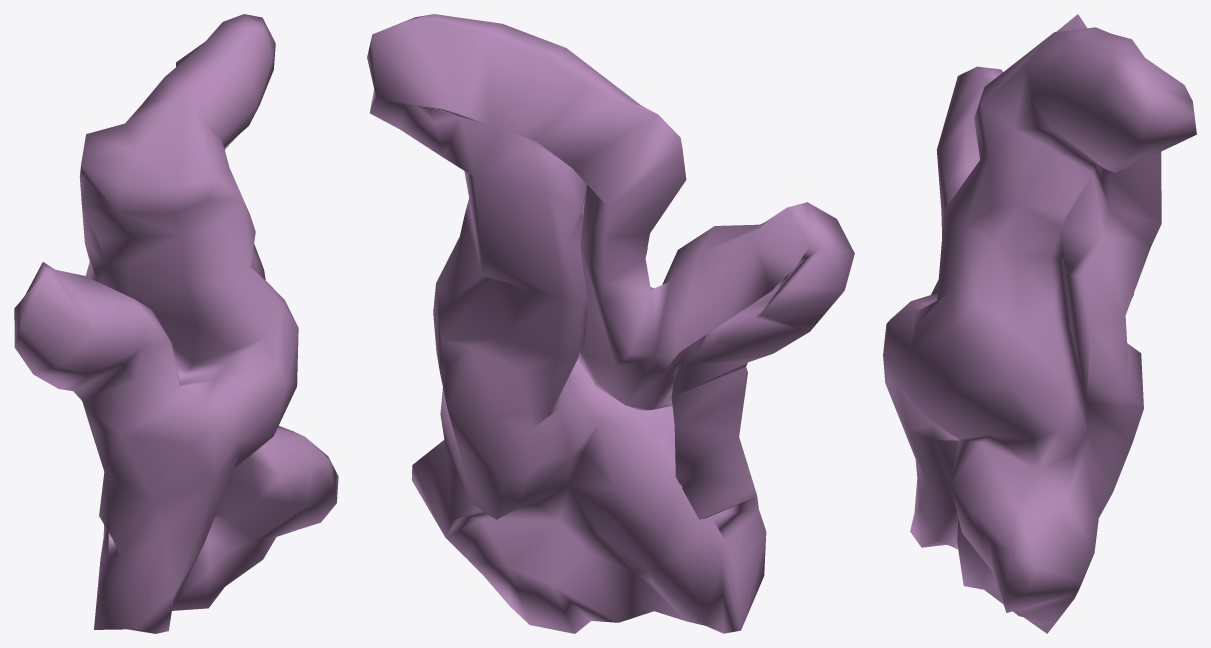
3 views of the same model, side by side, from view 1: azimuth 30°, elevation 25°; view 2: azimuth 150°, elevation 25°; view 3: azimuth 270°, elevation 25° (orthographic). The views are drawn at different scales.
Parts seen in each view (by area): view 1: 右侧眶沟（H形眶沟）; view 2: 右侧眶沟（H形眶沟）; view 3: 右侧眶沟（H形眶沟）.
Part boxes in pixels (x1,y1,x2,y2): 右侧眶沟（H形眶沟）: [14, 14, 338, 633]; 右侧眶沟（H形眶沟）: [367, 14, 854, 633]; 右侧眶沟（H形眶沟）: [883, 14, 1196, 633].
Size of the model in its own units: 0.0419 by 0.0612 by 0.0282.
